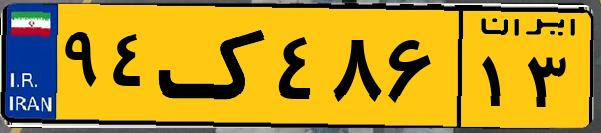1: (475, 38, 525, 113)
3: (525, 38, 570, 115)
4: (270, 28, 330, 110), (110, 28, 158, 98)
6: (385, 28, 445, 110)
8: (330, 28, 385, 110)
9: (57, 26, 110, 100)
ک: (158, 12, 270, 120)
